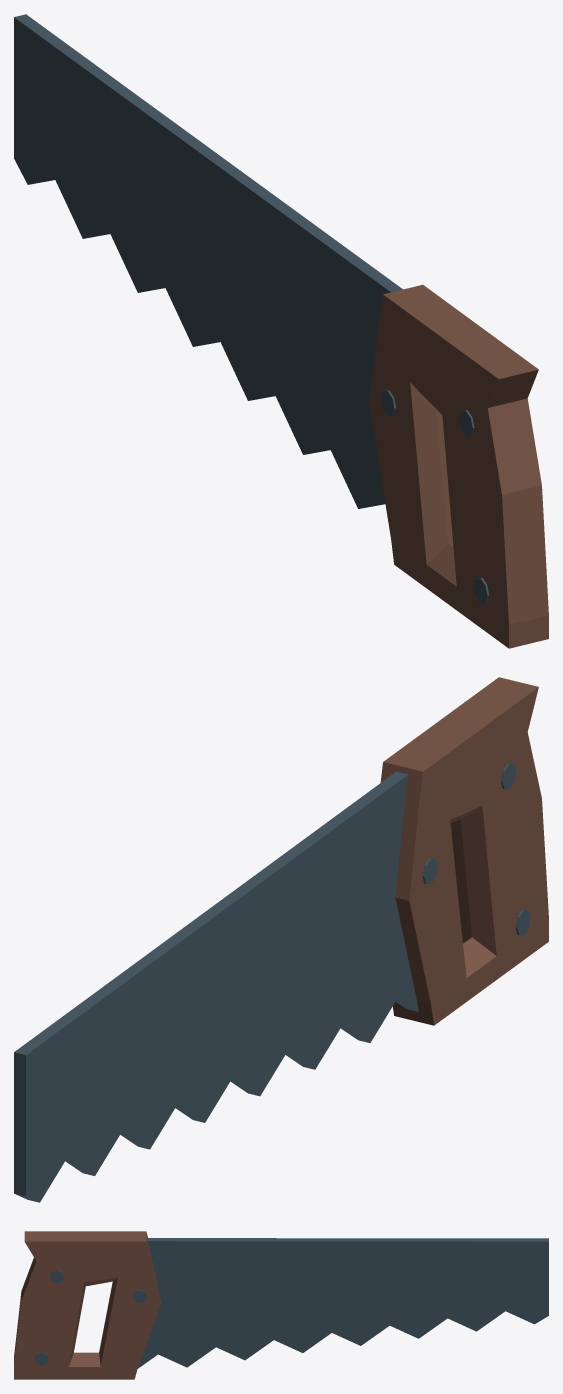
Rendered from br_saw.glb.
3 views of the same model, one above another, from view 1: azimuth 30°, elevation 25°; view 2: azimuth 150°, elevation 25°; view 3: azimuth 270°, elevation 25° (orthographic). The views are drawn at different scales.
Visible parts, largest first — view 1: Saw_Cube.040; view 2: Saw_Cube.040; view 3: Saw_Cube.040.
Boxes of the visible parts, x1,y1,x2,y2 form: Saw_Cube.040: (14,14,548,648); Saw_Cube.040: (14,677,548,1202); Saw_Cube.040: (14,1231,548,1379).
Size of the model in its own units: 0.927 by 5.33 by 18.77.
